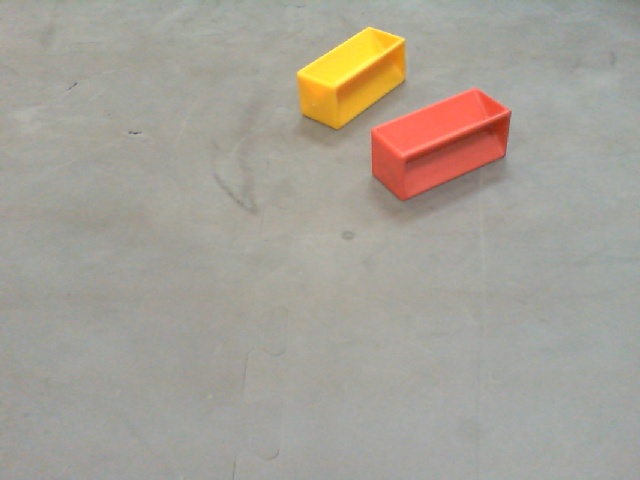RedSample: (368, 86, 512, 204)
YellowSample: (295, 28, 407, 130)
